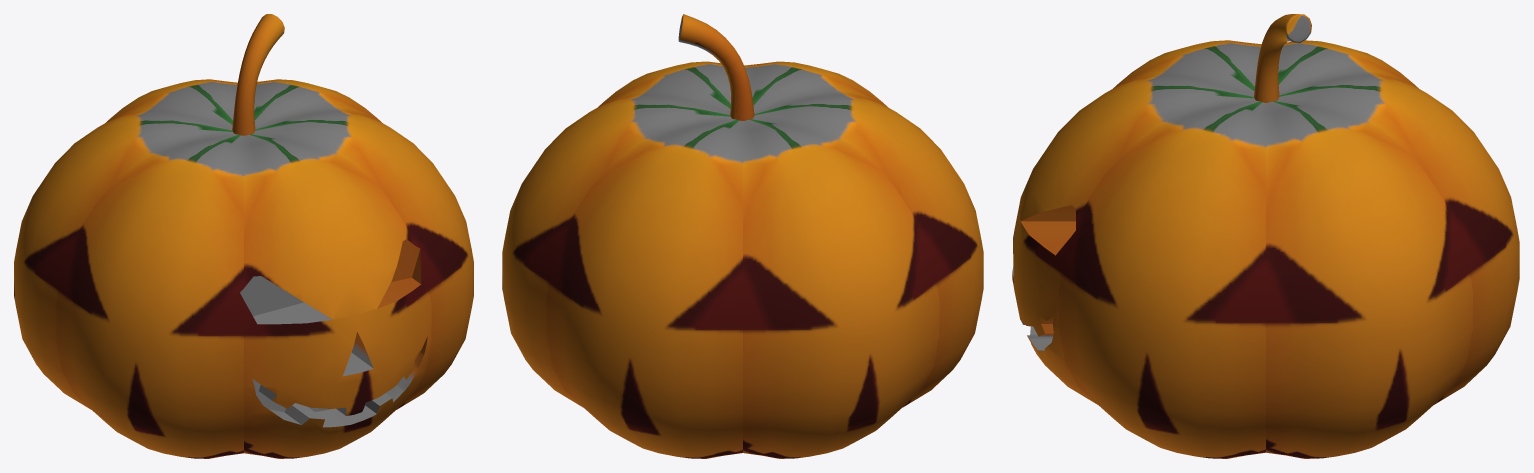
File: Pumpkin_02.fbx
The picture shows the model from 3 angles, left to right: view 1: azimuth 30°, elevation 25°; view 2: azimuth 150°, elevation 25°; view 3: azimuth 270°, elevation 25°; orthographic projection. The views are drawn at different scales.
Visible parts, largest first — view 1: Pumpkin_02; view 2: Pumpkin_02; view 3: Pumpkin_02.
Boxes of the visible parts, x1,y1,x2,y2 form: Pumpkin_02: [14, 14, 473, 458]; Pumpkin_02: [502, 14, 983, 458]; Pumpkin_02: [1012, 14, 1519, 458].
Size of the model in its own units: 77.07 by 74.85 by 81.28.
